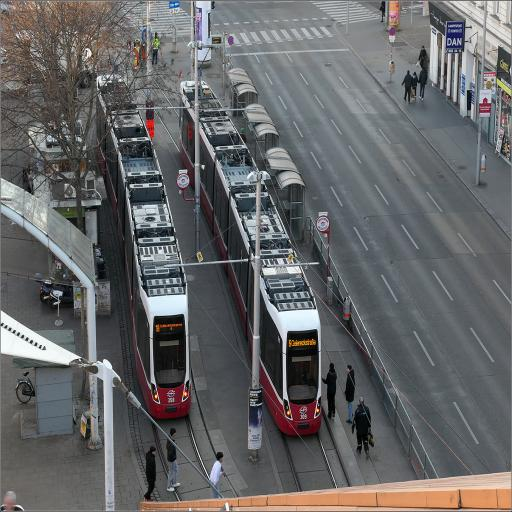Flexity: (180, 79, 324, 437), (95, 74, 194, 421)
